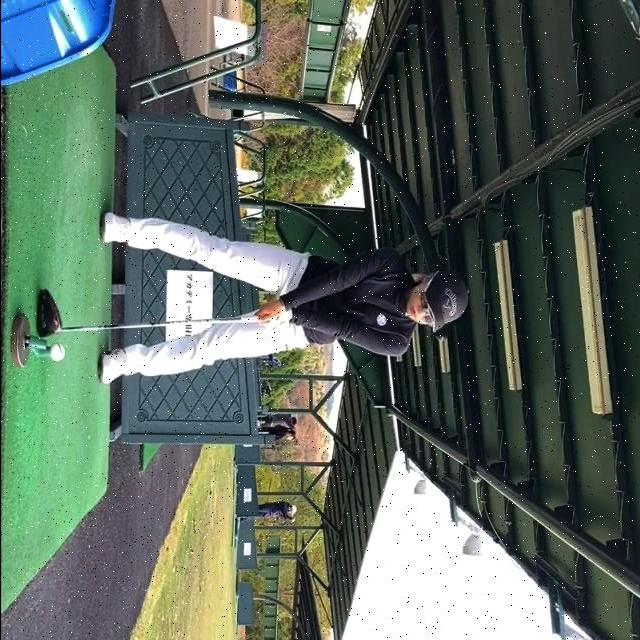ClubHandle: (34, 285, 269, 343)
ClubHead: (35, 290, 61, 339)
GolfBall: (46, 341, 65, 364)
